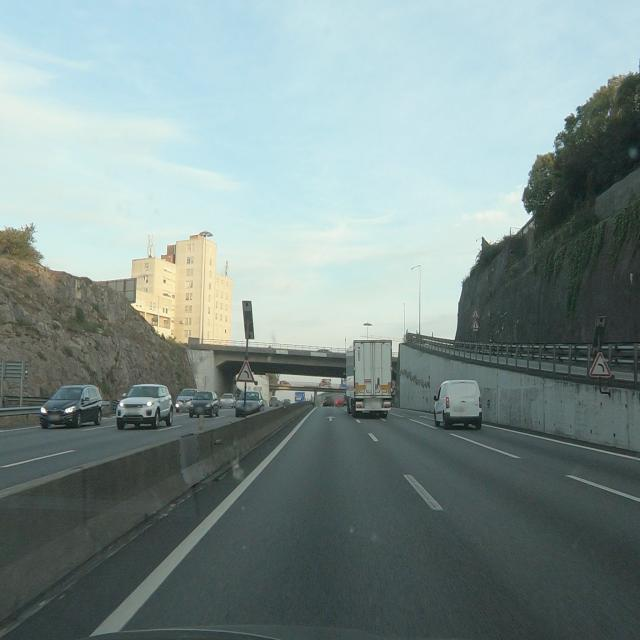car: (38, 384, 104, 430), (115, 383, 173, 430), (433, 378, 483, 429), (188, 390, 220, 418), (234, 390, 265, 417), (175, 388, 198, 413), (219, 392, 237, 409), (268, 397, 281, 408), (322, 397, 335, 408), (336, 396, 344, 406)
